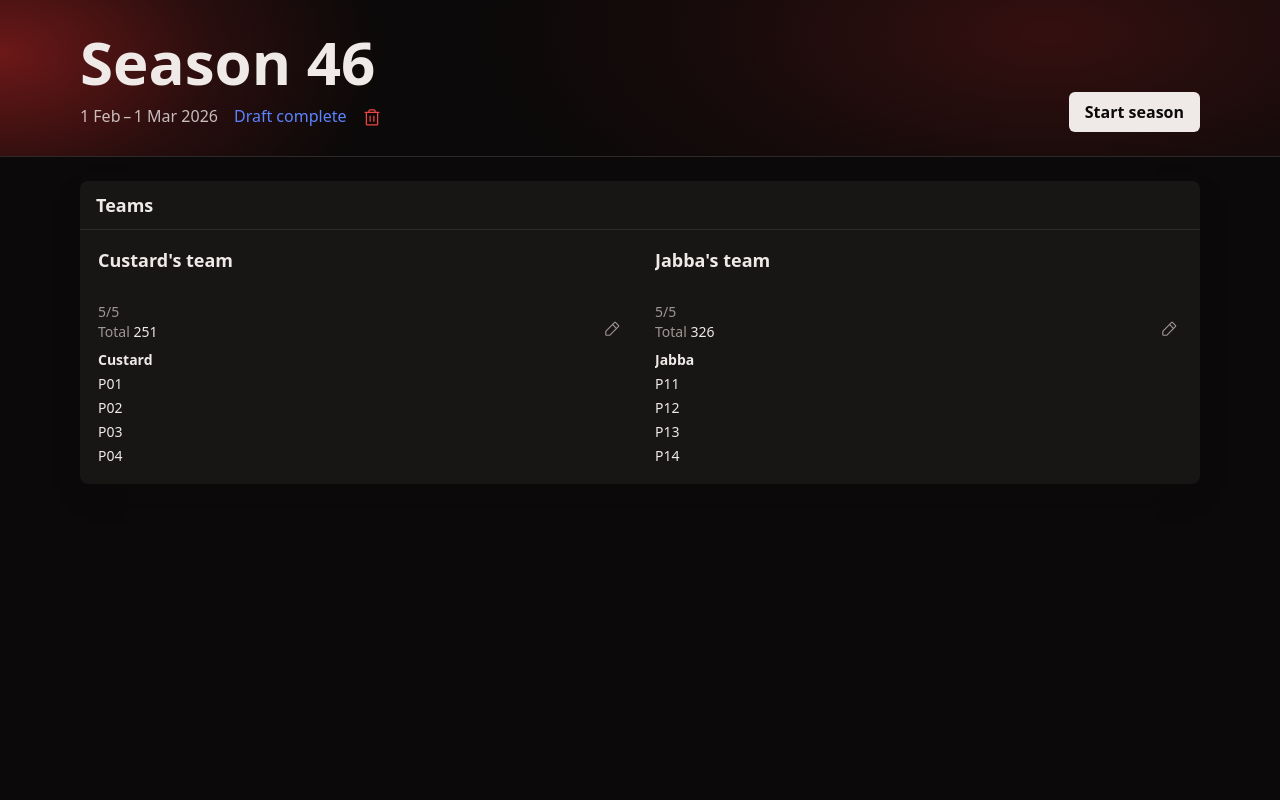
Test case: warns before starting with default team names: 2 teams still have their default name.
This screenshot has width=1280, height=800.
Click the button "Start season".
click(1134, 112)  # box [1069,92,1200,132]
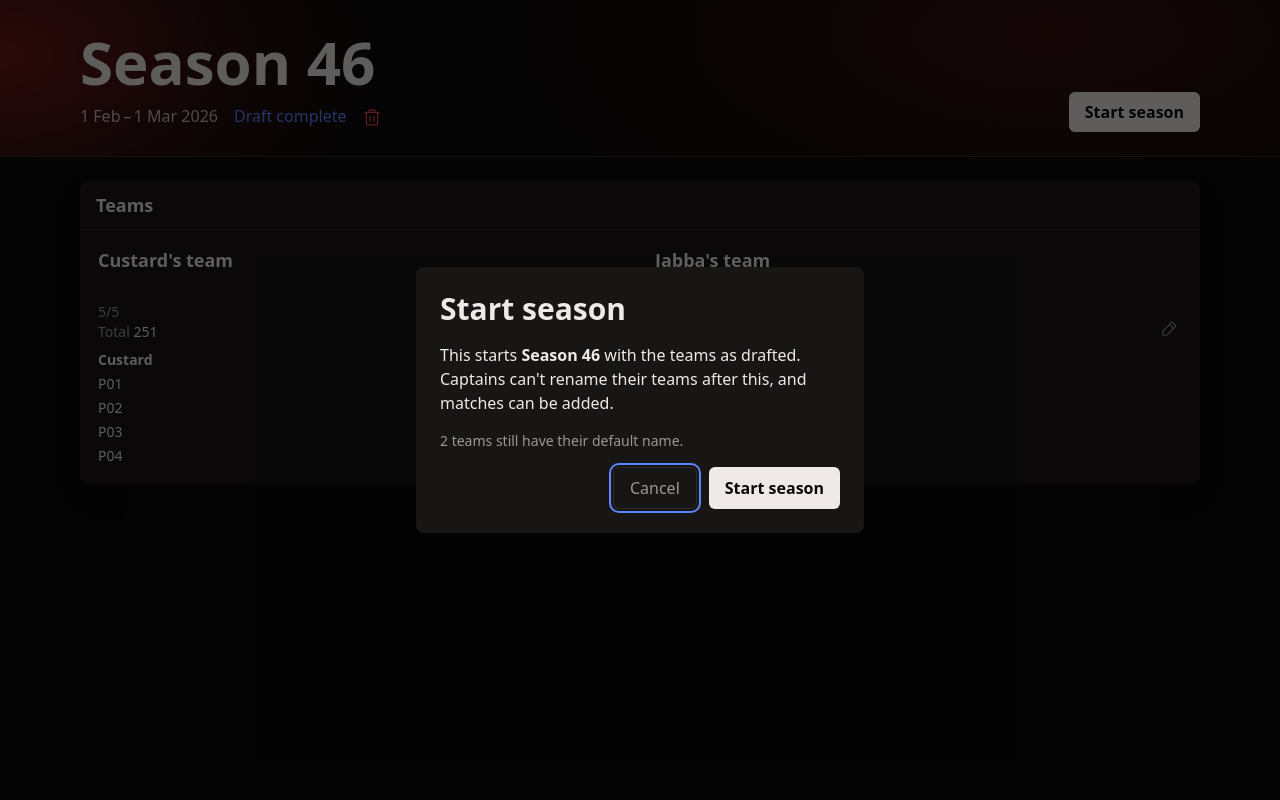
Expected: the text "2 teams still have their default name." is shown, [440,431,683,450]
